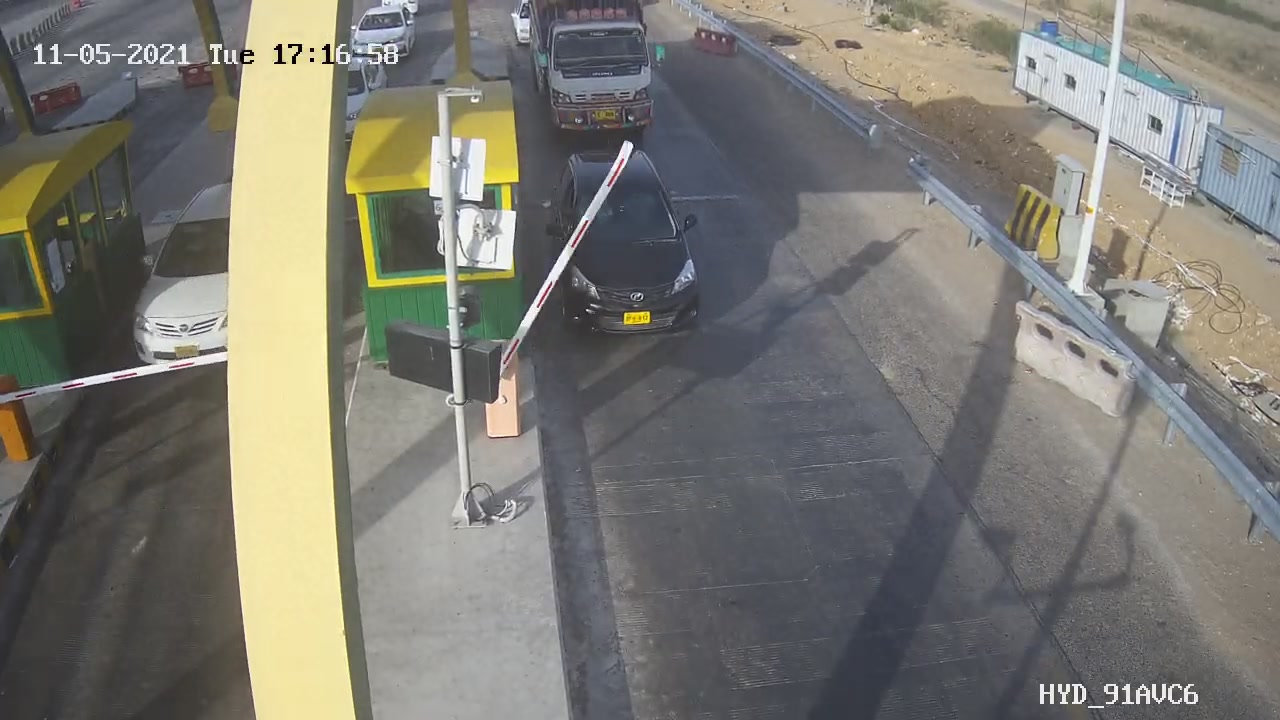F1: (535, 136, 720, 352)
